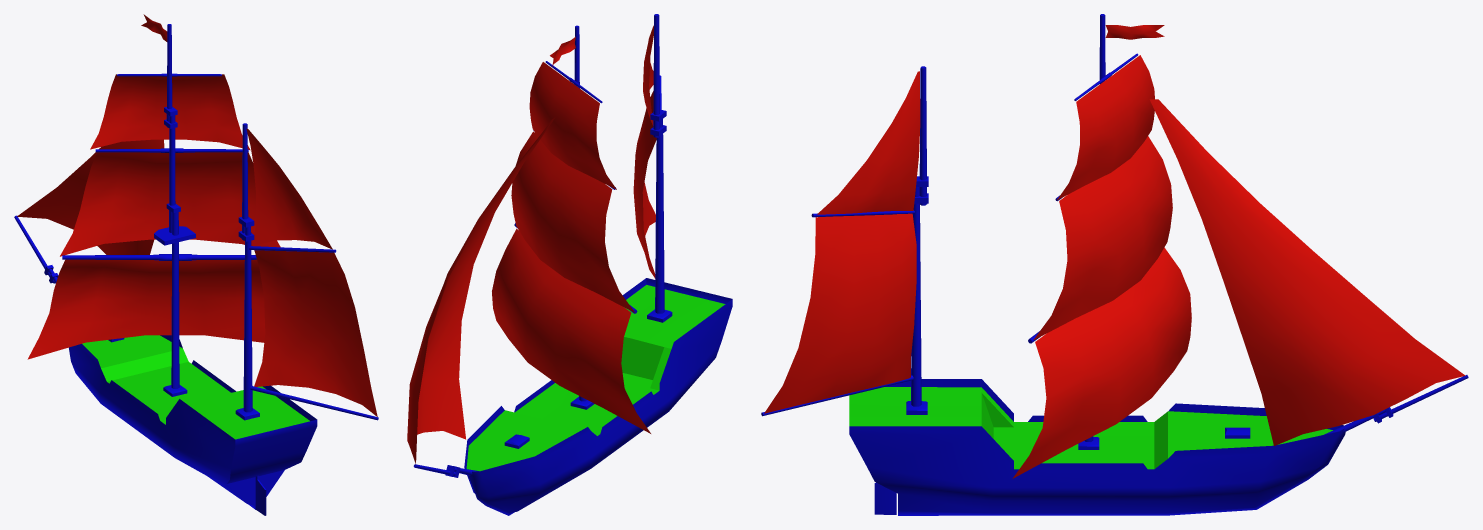
The model's file is ship2 UW to painter .fbx.
3 renders of one model, left to right at view 1: azimuth 30°, elevation 25°; view 2: azimuth 150°, elevation 25°; view 3: azimuth 270°, elevation 25°, orthographic. The views are drawn at different scales.
Visible parts, largest first — view 1: ship.003_Cylinder.000; view 2: ship.003_Cylinder.000; view 3: ship.003_Cylinder.000.
Boxes of the visible parts, x1=… form: ship.003_Cylinder.000: x1=14, y1=14, x2=378, y2=515; ship.003_Cylinder.000: x1=407, y1=14, x2=732, y2=515; ship.003_Cylinder.000: x1=761, y1=14, x2=1468, y2=515.
Bounding box in the file's own units: 540 × 984 × 1259.
